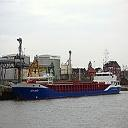Ships: (7, 68, 125, 102)
